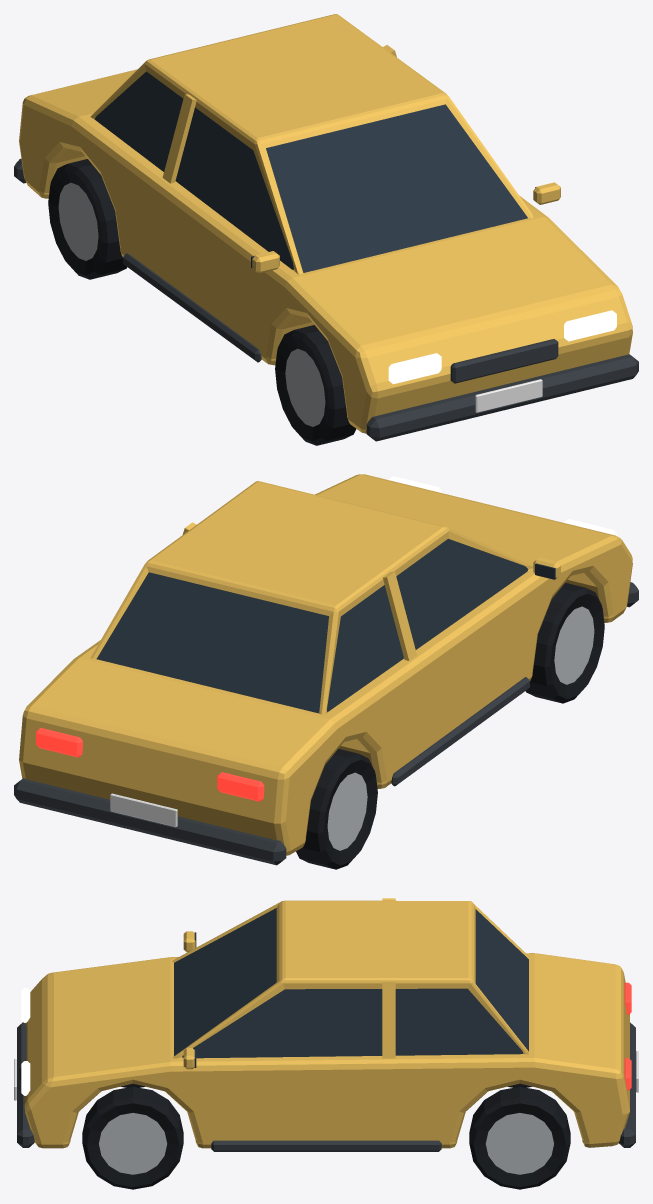
The model's file is bil_lowpoly.glb.
3 views of the same model, one above another, from view 1: azimuth 30°, elevation 25°; view 2: azimuth 150°, elevation 25°; view 3: azimuth 270°, elevation 25° (orthographic). The views are drawn at different scales.
Parts seen in each view (by area): view 1: Karosseri, Kupe, Hjul_FH, Hjul_BH, Stotfanger_foran, Grill, Terskel_H, Skilt_foran, B_stolpe_H, Frontlys_H, Frontlys_V; view 2: Karosseri, Kupe, Hjul_BH, Hjul_FH, Stotfanger_bak, Terskel_H, Skilt_bak, B_stolpe_H, Baklys_H, Baklys_V; view 3: Karosseri, Kupe, Hjul_BV, Hjul_FV, Terskel_V, B_stolpe_V, Stotfanger_bak, Stotfanger_foran.
Part boxes in pixels (box(x1,y1,x2,y2)): Karosseri: box(19, 69, 632, 433); Kupe: box(90, 14, 533, 274); Hjul_FH: box(275, 325, 356, 445); Hjul_BH: box(48, 159, 127, 279); Stotfanger_foran: box(366, 354, 638, 441); Grill: box(450, 339, 558, 383); Terskel_H: box(123, 253, 261, 362); Skilt_foran: box(475, 379, 542, 412); B_stolpe_H: box(162, 94, 196, 183); Frontlys_H: box(388, 353, 441, 384); Frontlys_V: box(564, 310, 616, 341); Karosseri: box(19, 474, 632, 855); Kupe: box(90, 481, 533, 715); Hjul_BH: box(296, 749, 377, 869); Hjul_FH: box(525, 582, 604, 703); Stotfanger_bak: box(14, 778, 286, 865); Terskel_H: box(391, 677, 529, 786); Skilt_bak: box(110, 793, 177, 827); B_stolpe_H: box(383, 571, 416, 660); Baklys_H: box(217, 772, 264, 801); Baklys_V: box(36, 728, 82, 757); Karosseri: box(24, 953, 629, 1148); Kupe: box(172, 900, 529, 1058); Hjul_BV: box(469, 1086, 570, 1189); Hjul_FV: box(82, 1086, 183, 1189); Terskel_V: box(211, 1140, 441, 1151); B_stolpe_V: box(382, 982, 395, 1058); Stotfanger_bak: box(619, 1022, 635, 1147); Stotfanger_foran: box(17, 1022, 34, 1147).
Bounding box in the file's own units: 2.02 × 1.44 × 4.2.
